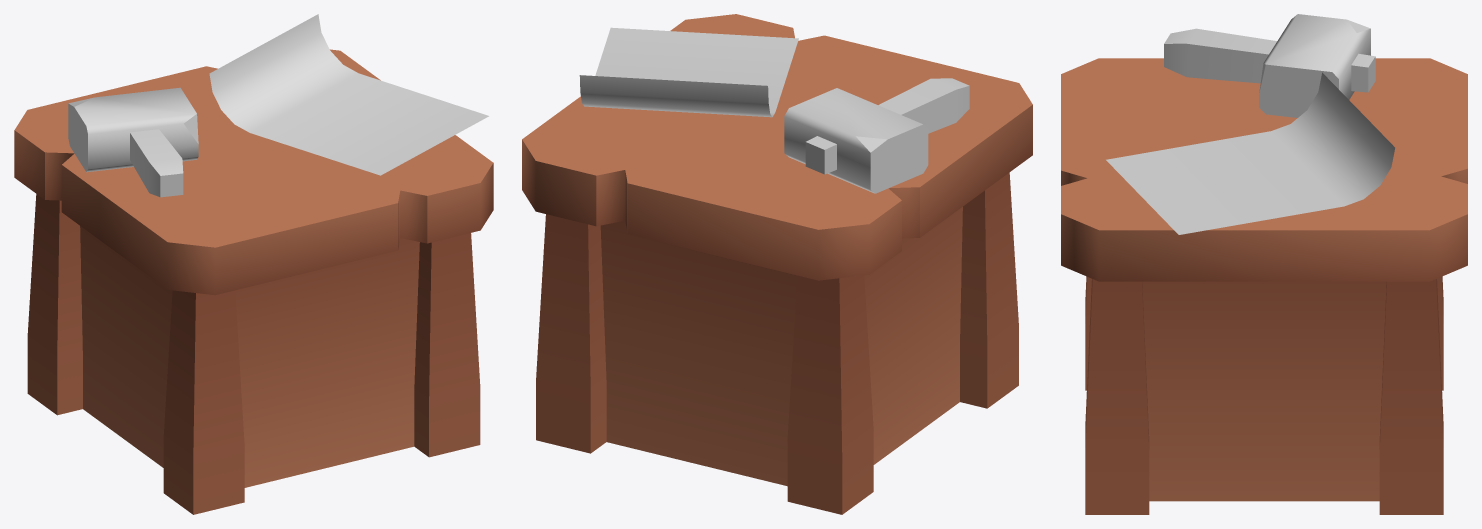
Rendered from KS_workbench.glb.
The picture shows the model from 3 angles, left to right: view 1: azimuth 30°, elevation 25°; view 2: azimuth 150°, elevation 25°; view 3: azimuth 270°, elevation 25°; orthographic projection. The views are drawn at different scales.
Parts seen in each view (by area): view 1: workbench, paper, hammer; view 2: workbench, paper, hammer; view 3: workbench, paper, hammer.
Part boxes in pixels (x1,y1,x2,y2): workbench: [14, 49, 493, 514]; paper: [209, 14, 488, 175]; hammer: [68, 87, 198, 197]; workbench: [522, 14, 1032, 514]; paper: [579, 27, 798, 117]; hammer: [784, 78, 969, 193]; workbench: [1061, 58, 1467, 514]; paper: [1106, 72, 1394, 234]; hammer: [1164, 14, 1375, 117].
Size of the model in its own units: 0.3257 by 0.2866 by 0.2957.
